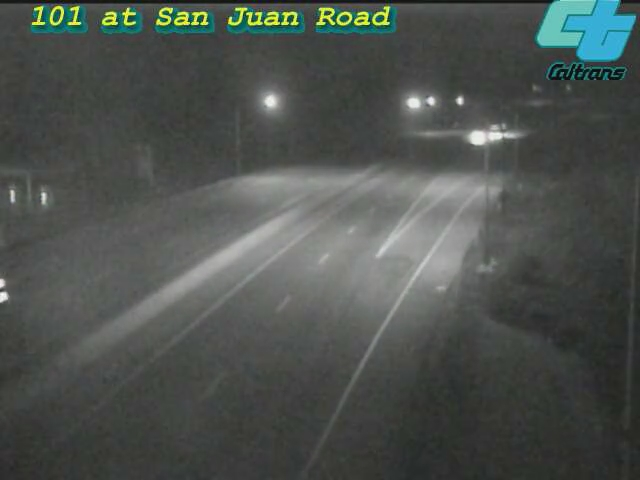vehicle: (1, 250, 43, 330), (475, 106, 525, 156), (451, 112, 501, 162)
